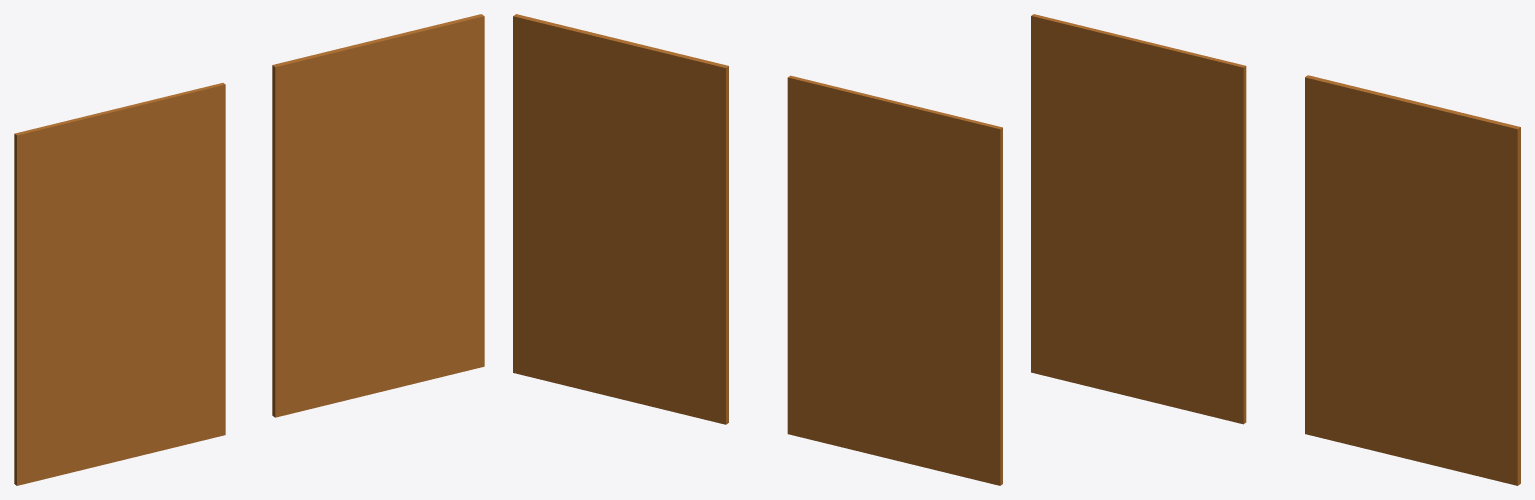
Rendered from Window_Slider_48x36_1.obj.
3 views of the same model, side by side, from view 1: azimuth 30°, elevation 25°; view 2: azimuth 150°, elevation 25°; view 3: azimuth 330°, elevation 25° (orthographic).
Size of the model in its own units: 1.03 by 0.7328 by 0.0318.
